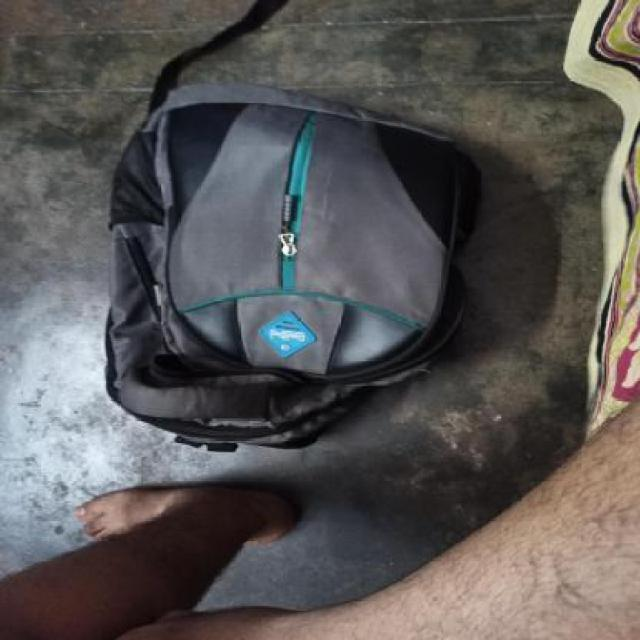backpack: (98, 71, 490, 457)
